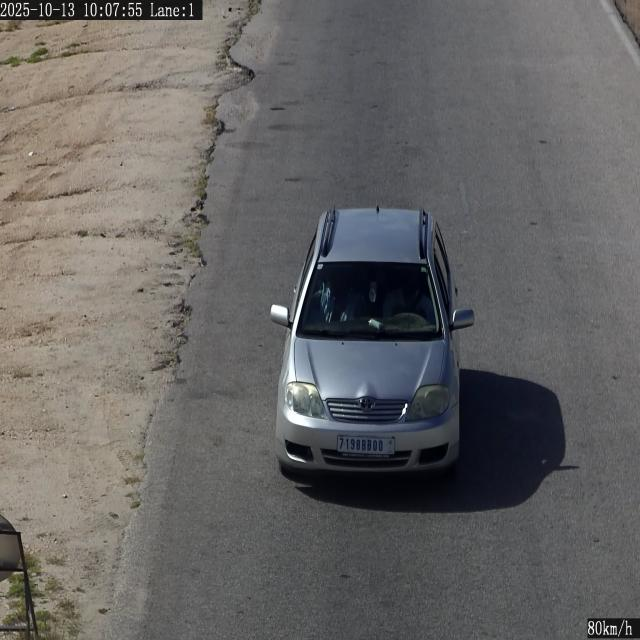BUS: (337, 435, 394, 455)
